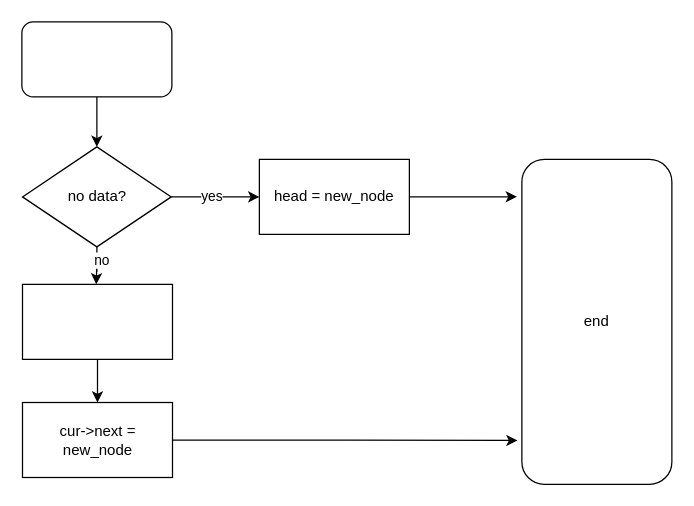
Some shapes in this 694 by 506 pixel diagram are drawn without their labels. Each missing label, with the centre of its shape:
find end node: the point at 96,321
start: the point at 96,59
